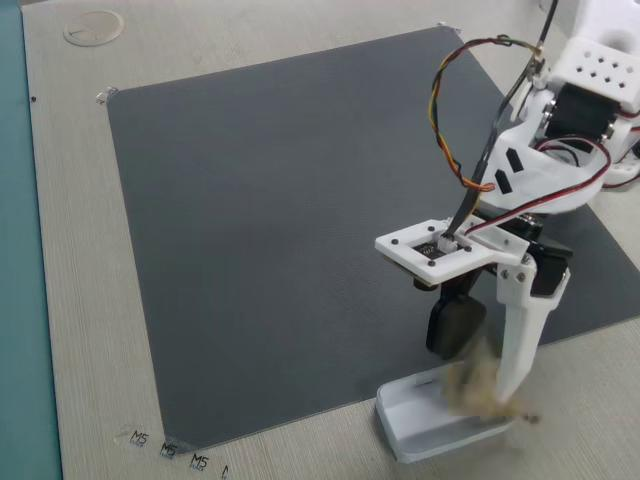gripper: (400, 220, 571, 370)
